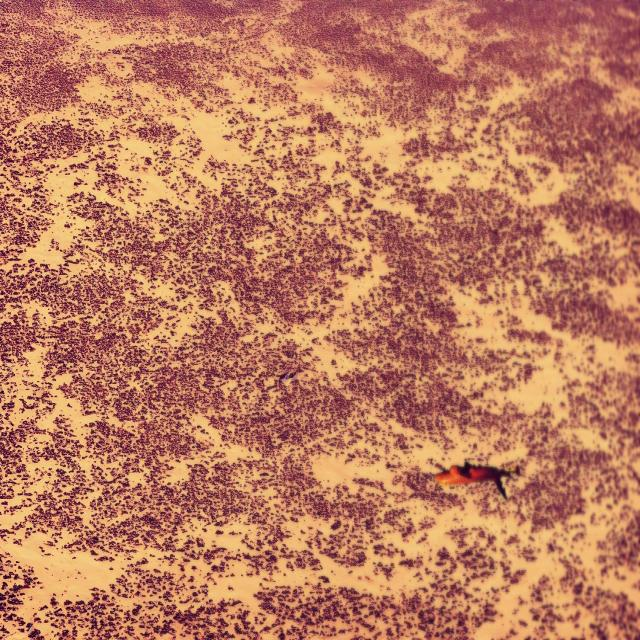airplane: (434, 460, 511, 500)
